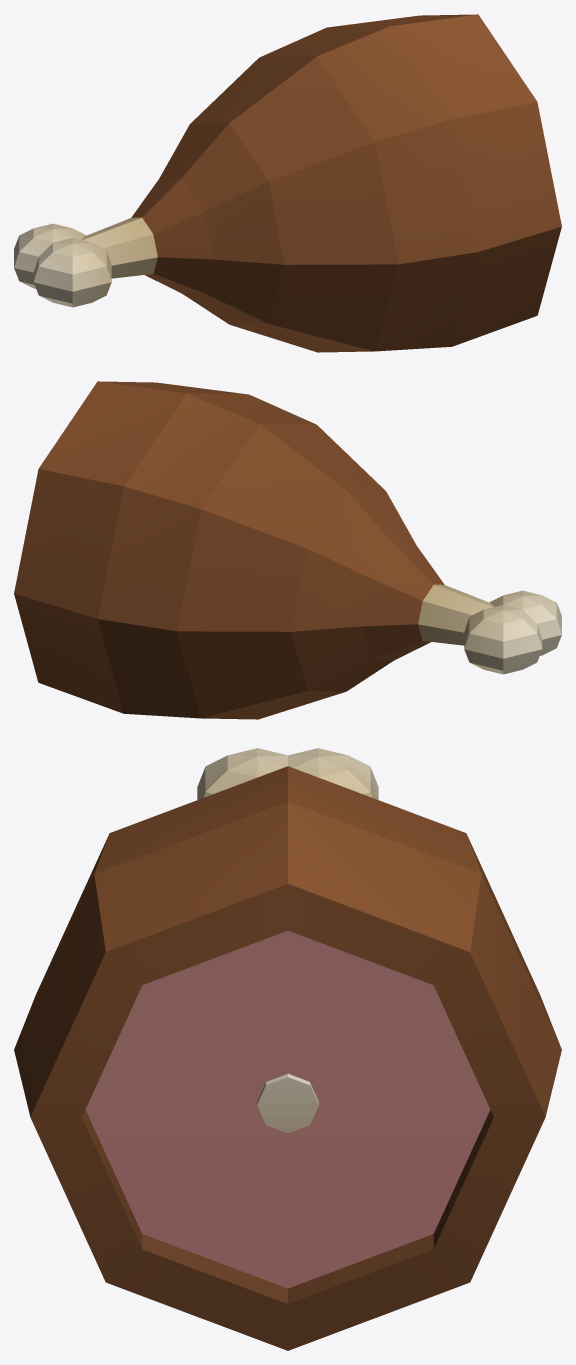
File: meat_1.glb
3 views of the same model, one above another, from view 1: azimuth 30°, elevation 25°; view 2: azimuth 150°, elevation 25°; view 3: azimuth 270°, elevation 25° (orthographic). The views are drawn at different scales.
Parts seen in each view (by area): view 1: meat_1; view 2: meat_1; view 3: meat_1.
Boxes of the visible parts, x1=… form: meat_1: x1=14, y1=14, x2=561, y2=352; meat_1: x1=14, y1=381, x2=561, y2=719; meat_1: x1=14, y1=748, x2=561, y2=1350.
Bounding box in the file's own units: 0.3099 × 0.2094 × 0.2094.
1 material, 1 textured.
